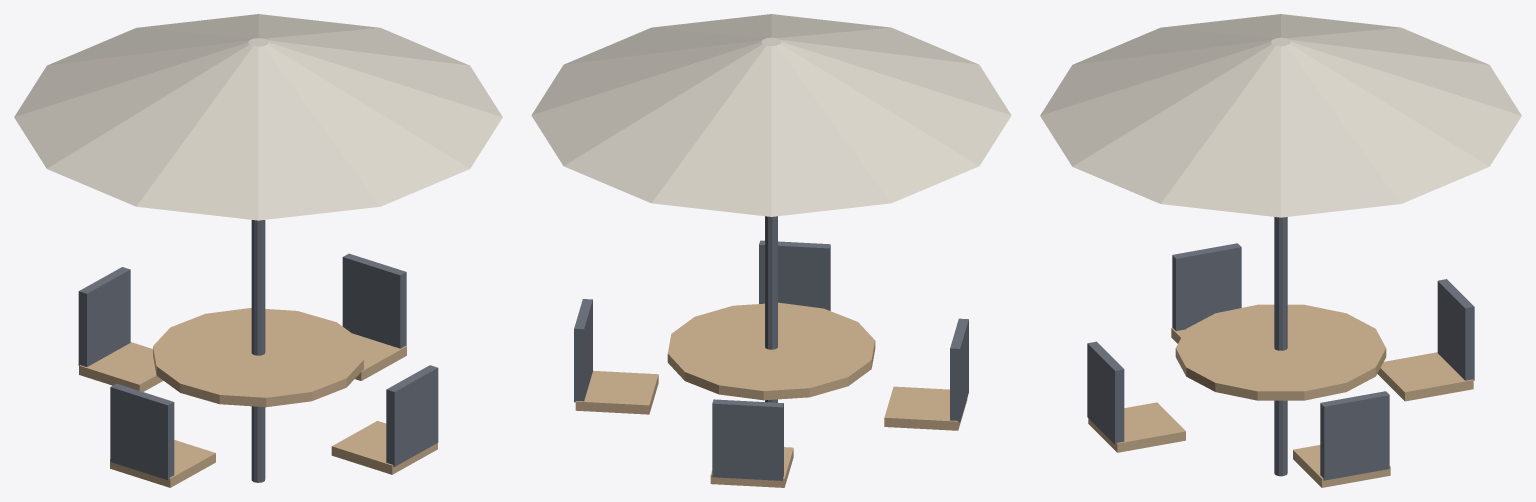
The model's file is Gorlero_CafeSet.fbx.
3 views of the same model, side by side, from view 1: azimuth 30°, elevation 25°; view 2: azimuth 150°, elevation 25°; view 3: azimuth 270°, elevation 25° (orthographic).
Parts seen in each view (by area): view 1: Cone, Cylinder, Cube.005, Cube.001, Cube.007, Cube.003, Cylinder.001, Cube.002, Cube.006, Cube.004, Cube; view 2: Cone, Cylinder, Cube.003, Cube.007, Cube, Cube.004, Cylinder.001, Cube.005, Cube.001, Cube.002; view 3: Cone, Cylinder, Cube.001, Cube.005, Cube.007, Cube.003, Cube.002, Cylinder.001, Cube.006, Cube.
Boxes of the visible parts, x1,y1,x2,y2 form: Cone: (14, 14, 502, 220); Cylinder: (153, 308, 363, 407); Cube.005: (110, 383, 174, 480); Cube.001: (342, 253, 406, 348); Cube.007: (386, 365, 438, 466); Cube.003: (78, 267, 130, 366); Cylinder.001: (251, 220, 265, 482); Cube.002: (79, 342, 163, 391); Cube.006: (331, 421, 437, 474); Cube.004: (110, 440, 215, 487); Cube: (352, 333, 406, 380); Cone: (531, 14, 1011, 216); Cylinder: (667, 302, 875, 400); Cube.003: (712, 399, 783, 480); Cube.007: (759, 240, 830, 310); Cube: (575, 370, 658, 414); Cube.004: (884, 386, 967, 430); Cylinder.001: (765, 216, 777, 402); Cube.005: (950, 318, 968, 422); Cube.001: (574, 299, 592, 402); Cube.002: (710, 447, 793, 487); Cone: (1040, 14, 1521, 217); Cylinder: (1175, 304, 1386, 400); Cube.001: (1320, 391, 1389, 480); Cube.005: (1172, 243, 1241, 330); Cube.007: (1087, 341, 1124, 444); Cube.003: (1437, 279, 1474, 380); Cube.002: (1377, 352, 1473, 401); Cylinder.001: (1274, 217, 1287, 476); Cube.006: (1088, 402, 1185, 452); Cube: (1293, 445, 1390, 487).
Size of the model in its own units: 2.84 by 2.8 by 2.84.
